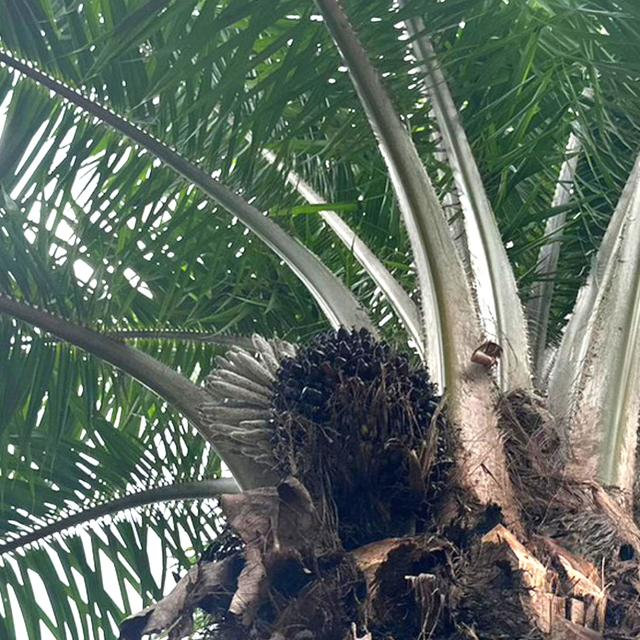unripe: (265, 321, 459, 534)
